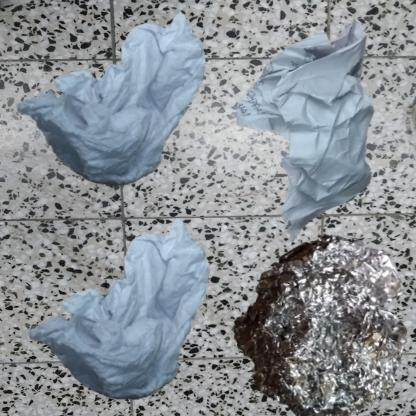aluminio: (213, 213, 416, 416)
papel: (213, 10, 416, 272), (10, 213, 243, 416), (10, 10, 216, 195)
